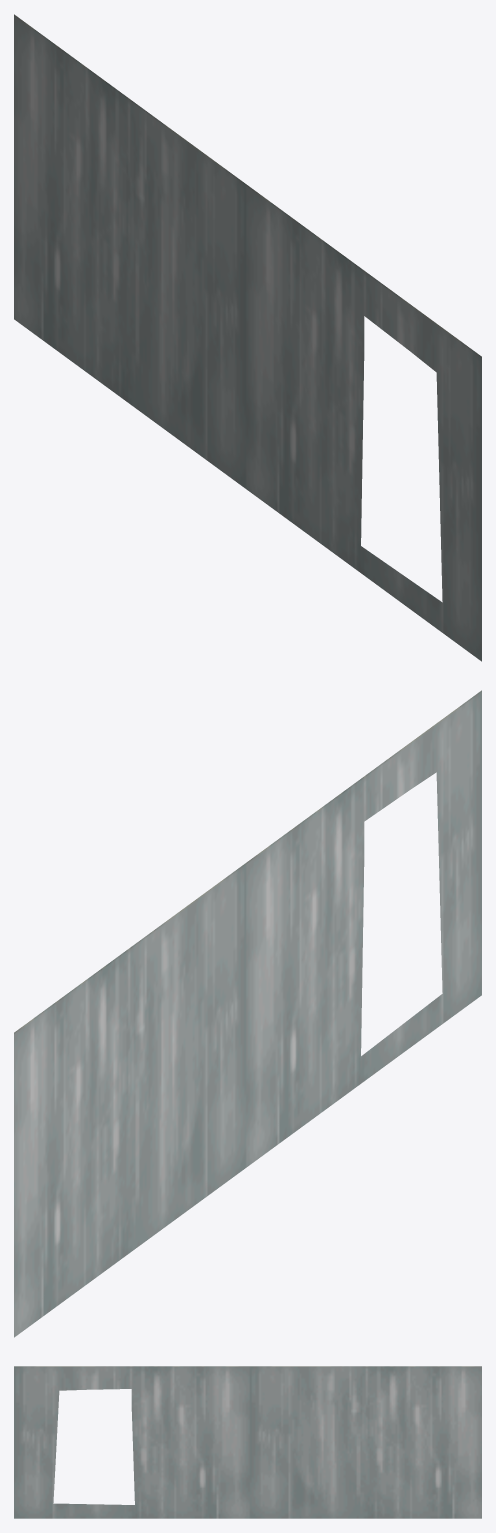
File: W_AI2r_oxxx_1337.glb
The picture shows the model from 3 angles, top to bottom: view 1: azimuth 30°, elevation 25°; view 2: azimuth 150°, elevation 25°; view 3: azimuth 270°, elevation 25°; orthographic projection. The views are drawn at different scales.
Parts seen in each view (by area): view 1: polySurfaceShape1269; view 2: polySurfaceShape1269; view 3: polySurfaceShape1269.
Part boxes in pixels (box(x1,y1,x2,y2)): polySurfaceShape1269: box(14, 14, 481, 661); polySurfaceShape1269: box(14, 690, 481, 1337); polySurfaceShape1269: box(14, 1366, 481, 1518).
Bounding box in the file's own units: 5.22e-08 × 0.3486 × 0.9692.
1 material, 1 textured.
